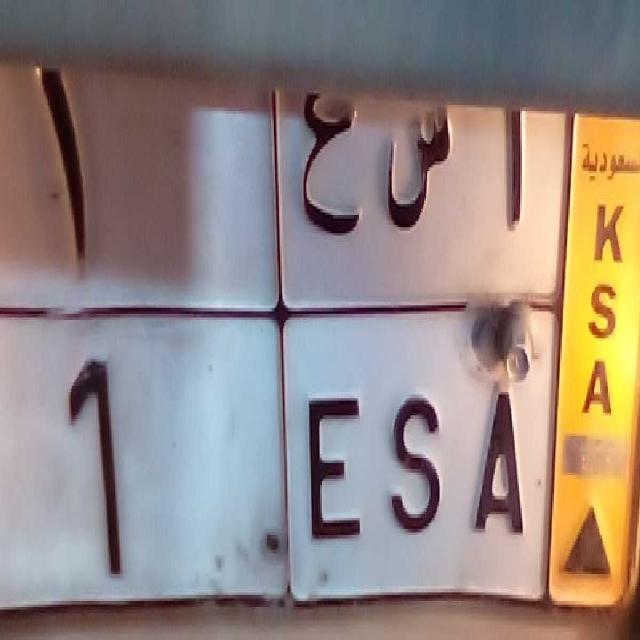license_plate: (0, 300, 553, 614)
